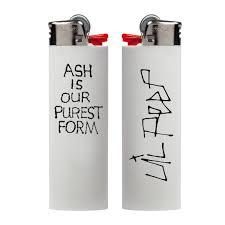lighter: (48, 12, 109, 211), (123, 16, 182, 211)
